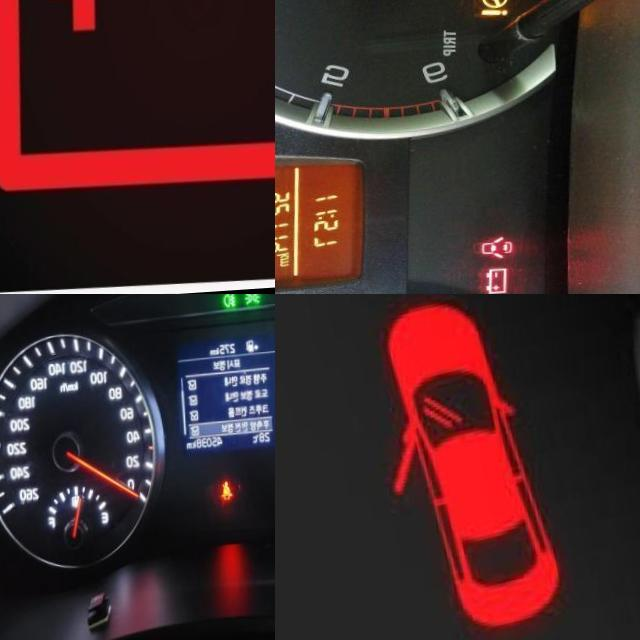FrontFogLight: (224, 295, 236, 311)
SideLamp: (245, 294, 261, 309)
